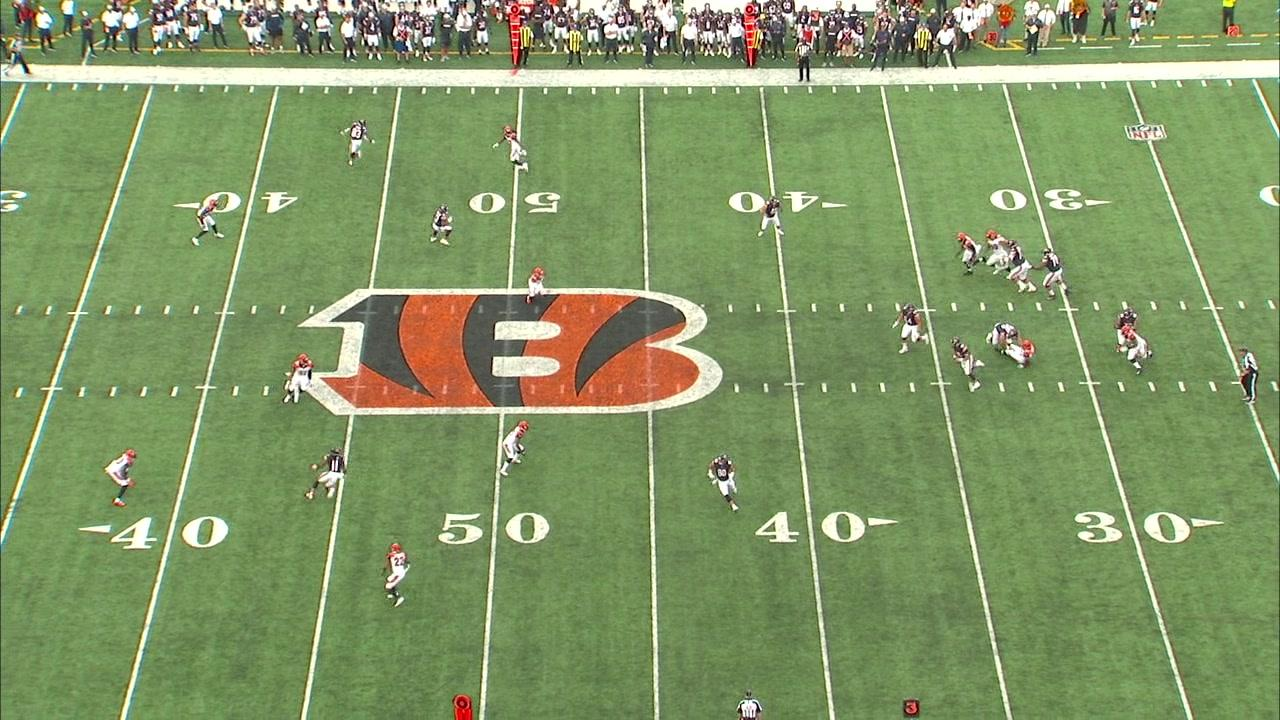five_hash: (40, 387, 63, 391), (775, 309, 797, 313), (214, 311, 235, 315), (1079, 381, 1100, 385), (784, 382, 805, 386), (1203, 307, 1225, 310), (930, 382, 952, 385), (67, 312, 88, 315), (1058, 308, 1079, 311), (195, 386, 216, 389), (917, 309, 936, 312)
hash: (1266, 299, 1276, 310), (1116, 381, 1126, 392), (1270, 381, 1280, 392), (14, 387, 24, 397), (850, 382, 858, 394), (810, 303, 819, 313), (1092, 301, 1101, 311), (1237, 300, 1246, 310), (108, 387, 118, 396), (139, 387, 148, 397), (231, 386, 240, 396), (1026, 382, 1035, 392), (1147, 382, 1156, 392), (1177, 382, 1186, 392), (78, 386, 86, 397), (170, 386, 178, 397), (262, 385, 270, 396), (908, 381, 916, 392), (1057, 382, 1065, 393), (754, 304, 763, 313), (134, 305, 142, 315), (250, 305, 258, 315), (1007, 302, 1015, 312), (1150, 301, 1158, 311), (1179, 300, 1187, 310), (732, 383, 740, 393), (820, 383, 828, 393), (879, 383, 887, 393), (997, 382, 1005, 392), (1209, 382, 1217, 392), (15, 305, 23, 314), (104, 305, 112, 314), (163, 305, 171, 314), (838, 303, 846, 312), (866, 303, 874, 312), (894, 303, 902, 312), (950, 303, 958, 312), (1035, 302, 1043, 311), (1121, 301, 1129, 310), (45, 306, 52, 316), (308, 305, 315, 315), (762, 383, 769, 393), (193, 305, 200, 314), (279, 305, 286, 314), (727, 304, 734, 313), (980, 302, 986, 312)
number: (1070, 508, 1193, 548), (110, 514, 232, 551), (753, 507, 866, 546), (437, 510, 552, 547), (467, 188, 563, 219), (988, 186, 1084, 216), (726, 187, 820, 216), (203, 189, 300, 216)
